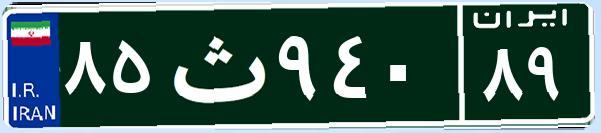0: (385, 28, 445, 110)
4: (330, 28, 385, 110)
5: (110, 28, 158, 105)
8: (57, 26, 110, 107), (475, 38, 525, 113)
9: (273, 28, 330, 110), (525, 38, 570, 115)
ث: (158, 15, 273, 115)
